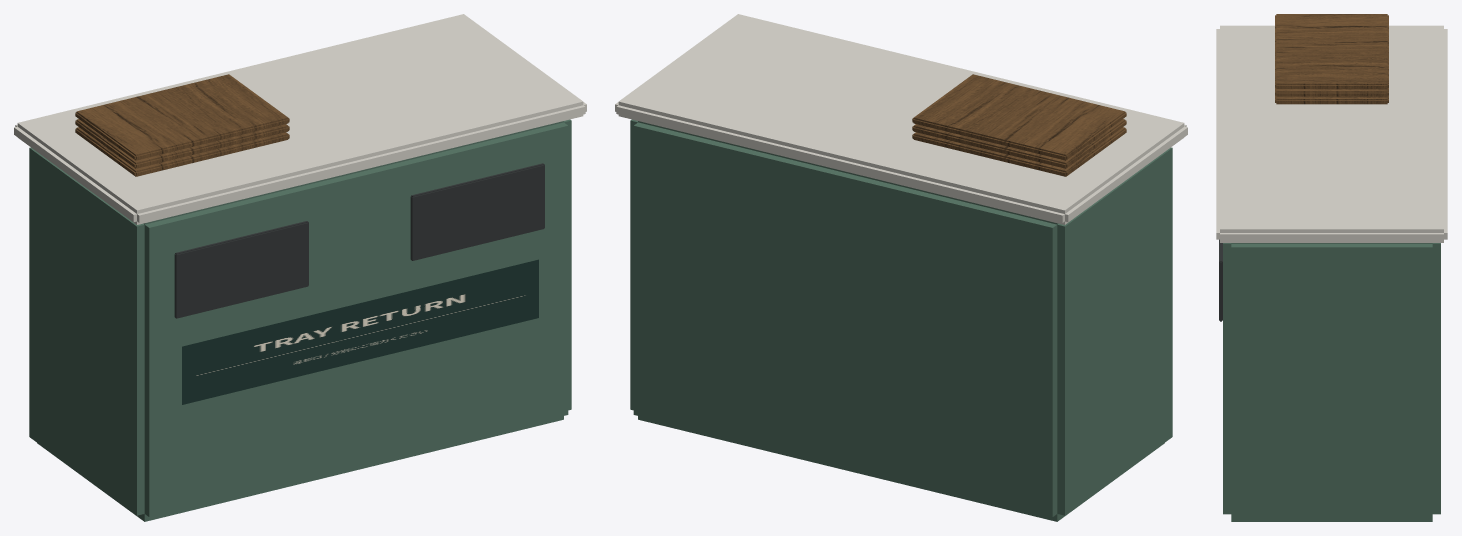
Rendered from fixture_v25_tray_return.glb.
The picture shows the model from 3 angles, left to right: view 1: azimuth 30°, elevation 25°; view 2: azimuth 150°, elevation 25°; view 3: azimuth 270°, elevation 25°; orthographic projection. The views are drawn at different scales.
Parts seen in each view (by area): view 1: fixture_v25_tray_return_V25_cafe_sage, fixture_v25_tray_return_Honed_solid_surface, fixture_v25_tray_return_tray-return, fixture_v25_tray_return_Anodised_graphite, fixture_v25_tray_return_CC0_Oak_veneer; view 2: fixture_v25_tray_return_V25_cafe_sage, fixture_v25_tray_return_Honed_solid_surface, fixture_v25_tray_return_CC0_Oak_veneer; view 3: fixture_v25_tray_return_V25_cafe_sage, fixture_v25_tray_return_Honed_solid_surface, fixture_v25_tray_return_CC0_Oak_veneer, fixture_v25_tray_return_Anodised_graphite.
Boxes of the visible parts, x1,y1,x2,y2 form: fixture_v25_tray_return_V25_cafe_sage: (29, 119, 571, 521); fixture_v25_tray_return_Honed_solid_surface: (14, 14, 586, 224); fixture_v25_tray_return_tray-return: (182, 259, 538, 404); fixture_v25_tray_return_Anodised_graphite: (174, 163, 544, 318); fixture_v25_tray_return_CC0_Oak_veneer: (75, 74, 289, 176); fixture_v25_tray_return_V25_cafe_sage: (630, 119, 1172, 521); fixture_v25_tray_return_Honed_solid_surface: (615, 14, 1187, 224); fixture_v25_tray_return_CC0_Oak_veneer: (912, 74, 1126, 176); fixture_v25_tray_return_V25_cafe_sage: (1223, 243, 1440, 521); fixture_v25_tray_return_Honed_solid_surface: (1216, 25, 1447, 242); fixture_v25_tray_return_CC0_Oak_veneer: (1275, 14, 1388, 104); fixture_v25_tray_return_Anodised_graphite: (1219, 239, 1222, 321).
Bounding box in the file's own units: 1.46 × 1.06 × 0.69.
Materials: 5 (2 with a texture image).
